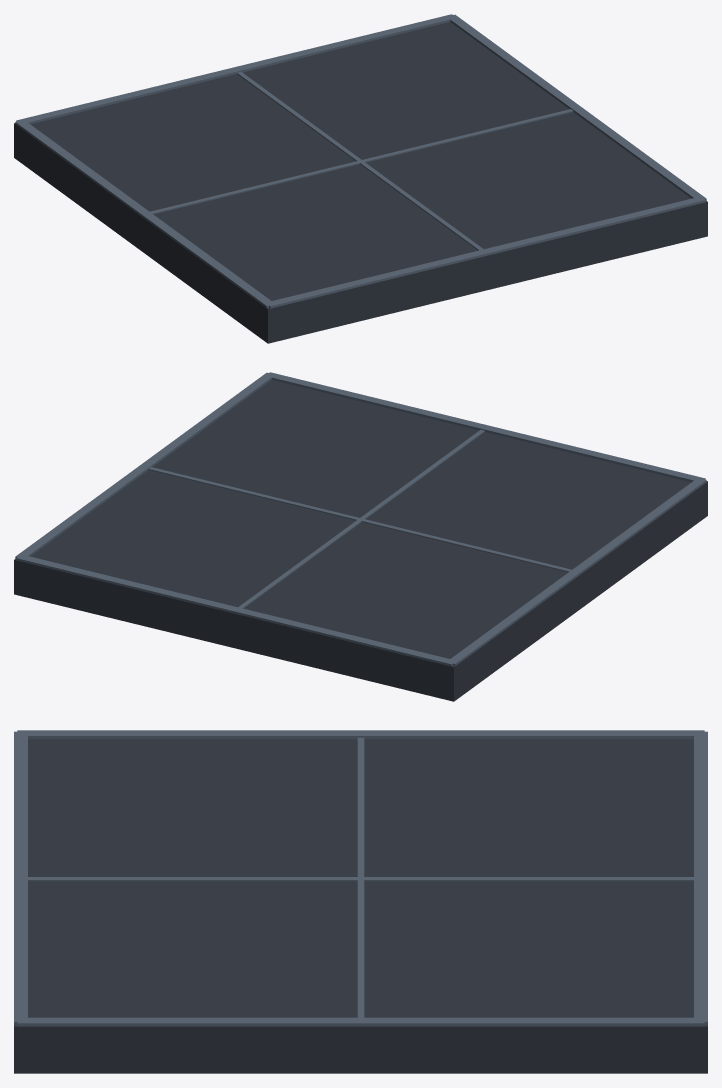
The model's file is Lab_Floor_A.fbx.
3 views of the same model, one above another, from view 1: azimuth 30°, elevation 25°; view 2: azimuth 150°, elevation 25°; view 3: azimuth 270°, elevation 25° (orthographic). The views are drawn at different scales.
Parts seen in each view (by area): view 1: Lab_Floor_A; view 2: Lab_Floor_A; view 3: Lab_Floor_A.
Part boxes in pixels (box(x1,y1,x2,y2)): Lab_Floor_A: box(14, 14, 707, 343); Lab_Floor_A: box(14, 372, 707, 701); Lab_Floor_A: box(14, 730, 707, 1073).
Bounding box in the file's own units: 4 × 0.32 × 4.
